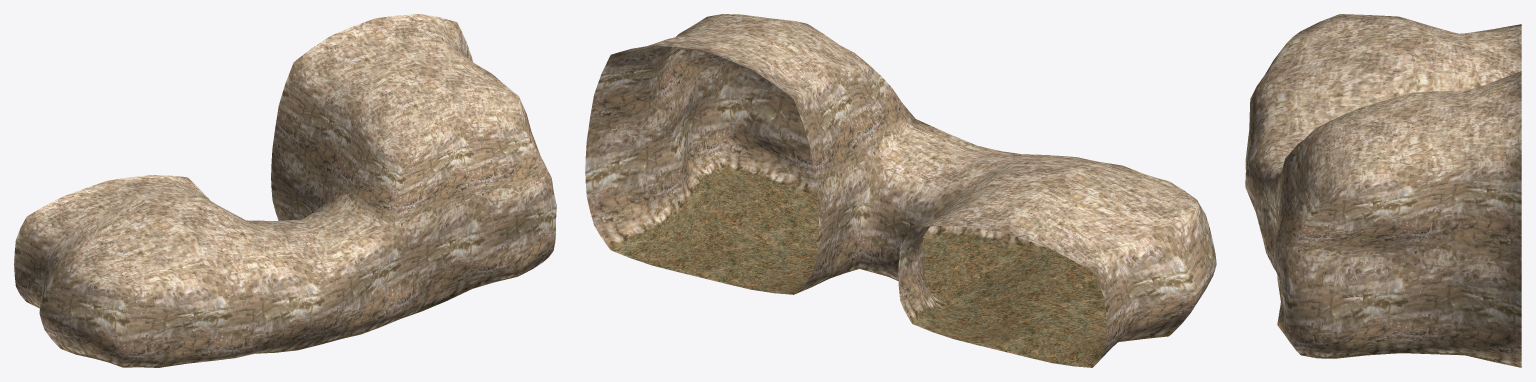
The model's file is thm_all_cave_s03_r8_mesh_r8.fbx.
3 renders of one model, left to right at view 1: azimuth 30°, elevation 25°; view 2: azimuth 150°, elevation 25°; view 3: azimuth 270°, elevation 25°, orthographic. The views are drawn at different scales.
Visible parts, largest first — view 1: mesh_node; view 2: mesh_node; view 3: mesh_node.
Boxes of the visible parts, <box> form: mesh_node: <box>14,14,556,367</box>; mesh_node: <box>585,14,1216,367</box>; mesh_node: <box>1245,14,1521,367</box>.
Bounding box in the file's own units: 44.12 × 18.91 × 18.42.
